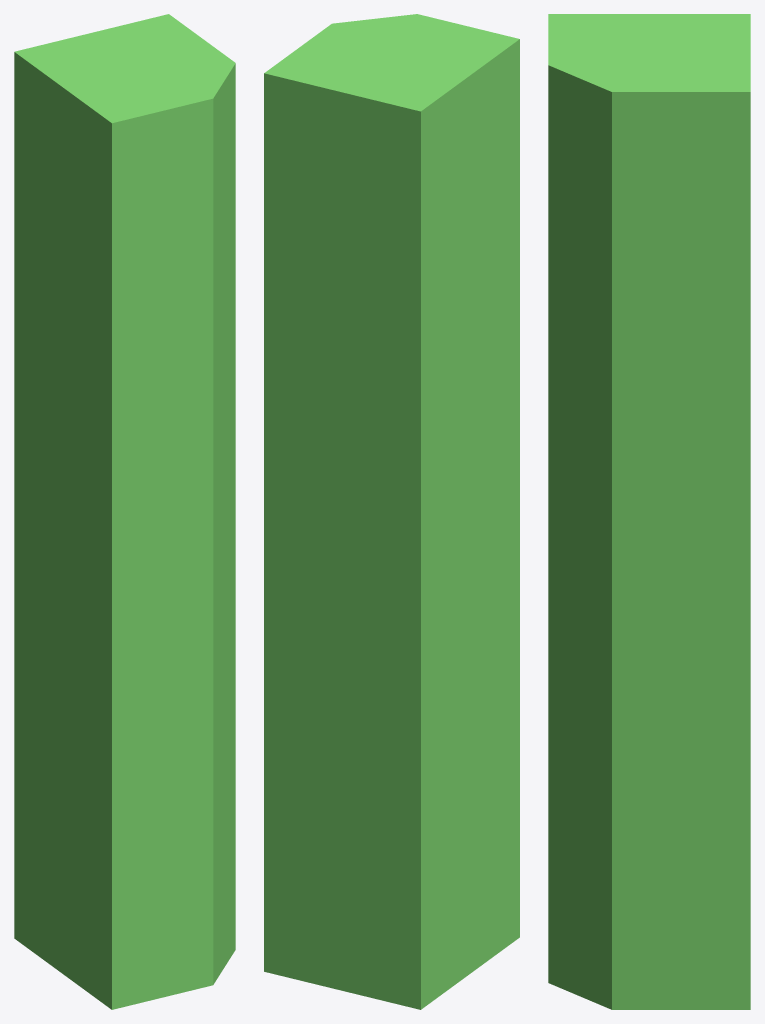
Rendered from sm_Collider16.fbx.
3 renders of one model, left to right at view 1: azimuth 30°, elevation 25°; view 2: azimuth 150°, elevation 25°; view 3: azimuth 270°, elevation 25°, orthographic. The views are drawn at different scales.
Parts seen in each view (by area): view 1: sm_Collider.016; view 2: sm_Collider.016; view 3: sm_Collider.016.
Part boxes in pixels (x1,y1,x2,y2): sm_Collider.016: (14, 14, 235, 1009); sm_Collider.016: (264, 14, 519, 1009); sm_Collider.016: (548, 14, 750, 1009).
Size of the model in its own units: 1048 by 5740 by 1147.
